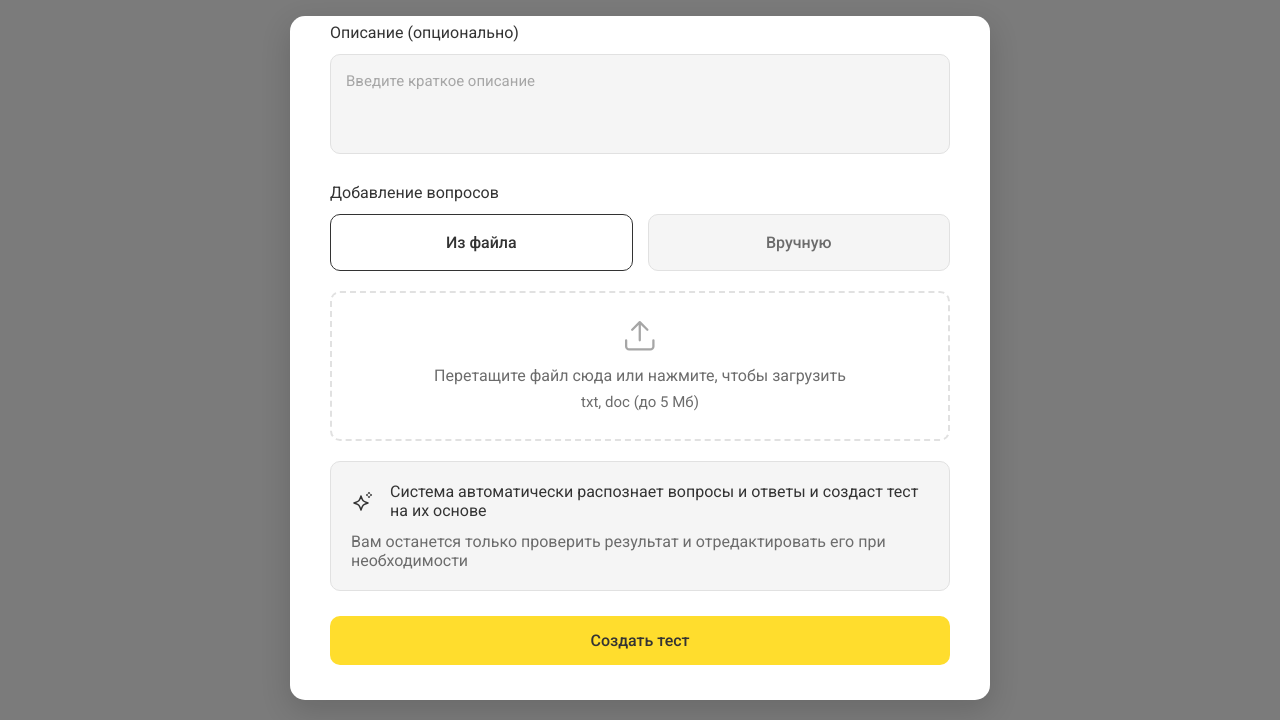
Scenario: CreateTestModal › should show validation errors and toast when trying to create from file with empty form
(page scrolled)
What coordinates should you click on to do the following:
click the button "Создать тест"
I would click on:
 (640, 640)
Its box is left=330, top=616, right=950, bottom=664.
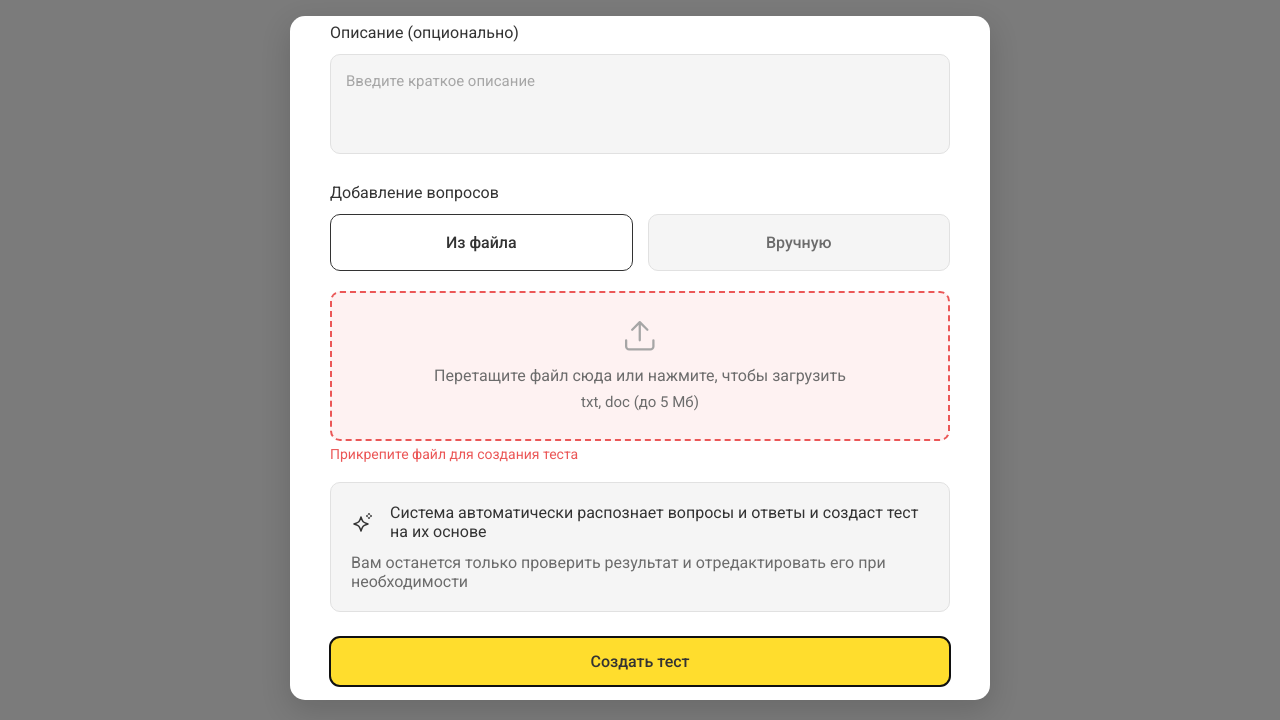
Check: the text "Прикрепите файл для создания теста" is shown, box left=330, top=446, right=578, bottom=462
